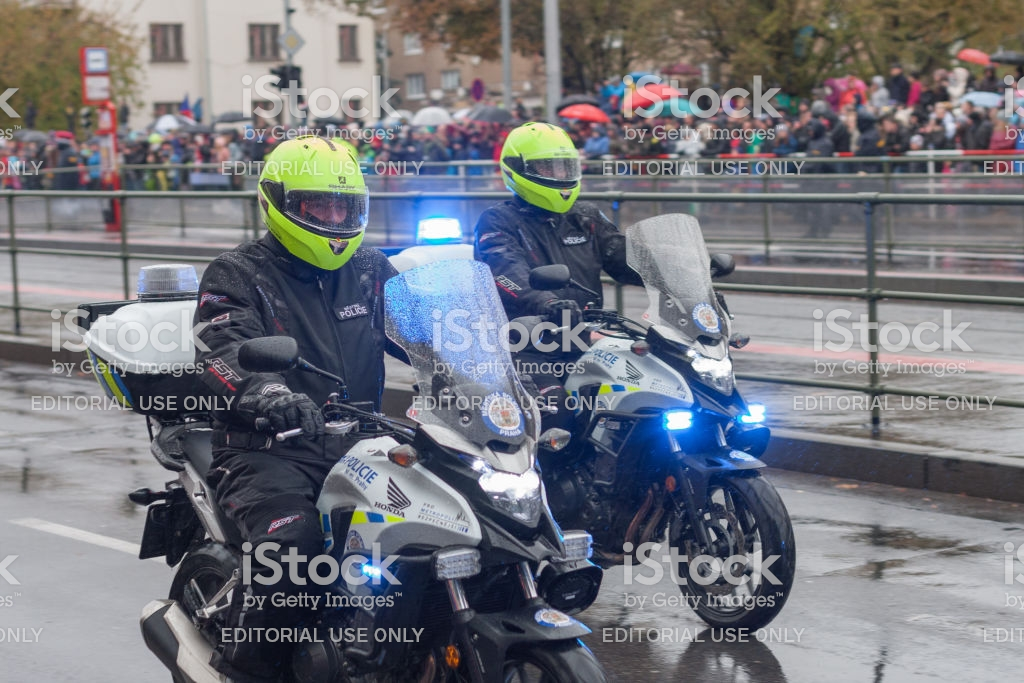helmet: (259, 143, 370, 277), (498, 127, 586, 207)
